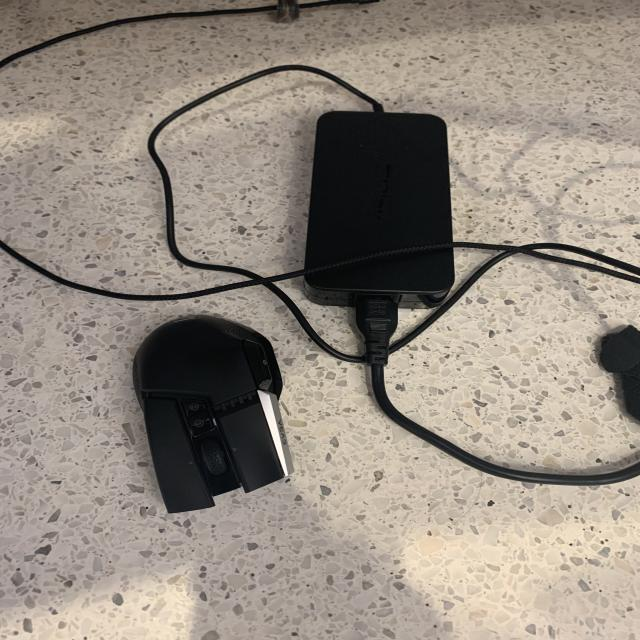Mouse: (127, 311, 298, 521)
